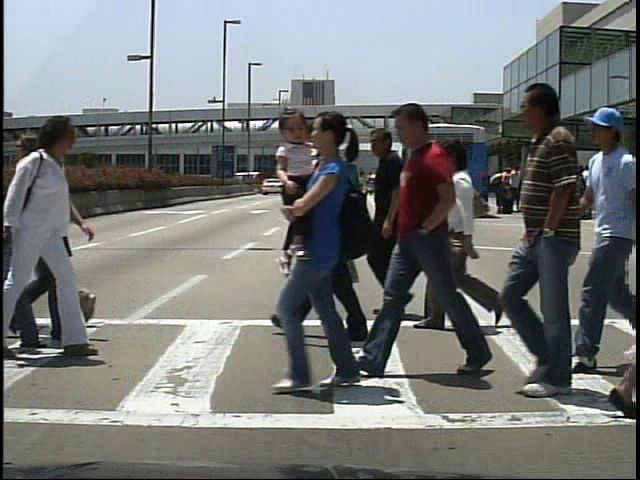person: (505, 84, 598, 410), (390, 98, 488, 371), (0, 113, 97, 366), (284, 120, 386, 347), (22, 111, 111, 335), (430, 138, 507, 339), (356, 130, 428, 322), (494, 164, 513, 217), (582, 168, 602, 218), (506, 166, 525, 215)
